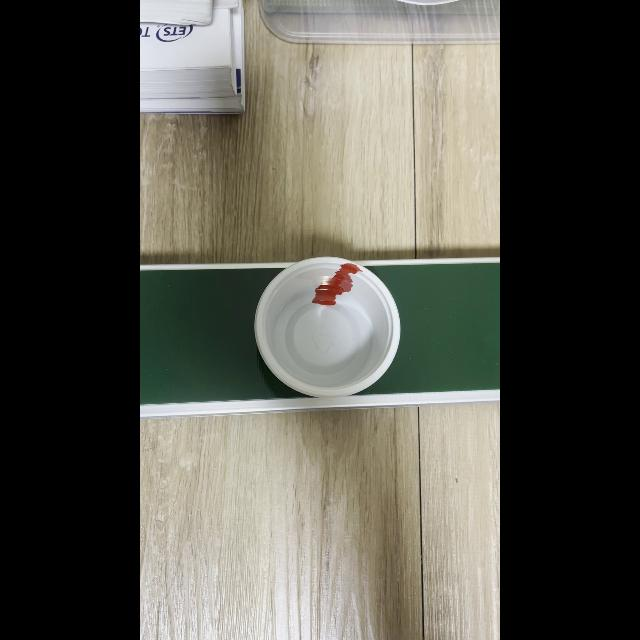dirty: (260, 262, 390, 400)
